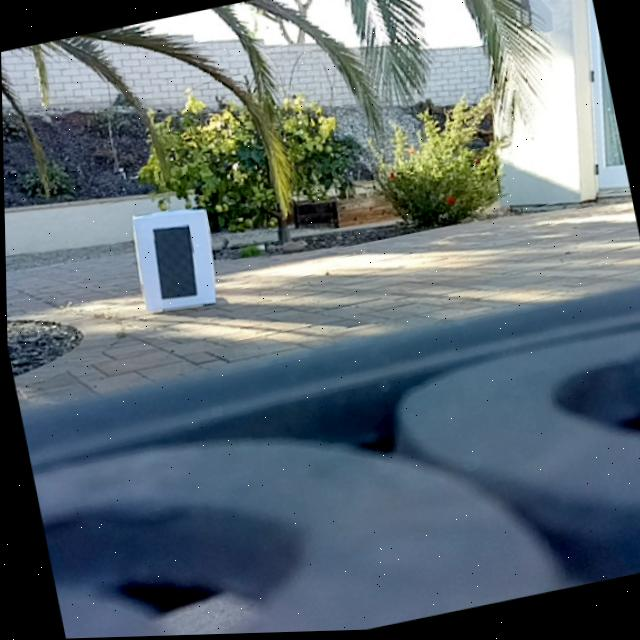led: (145, 219, 203, 306)
